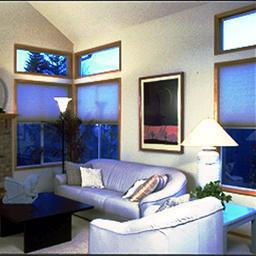Ventana: (214, 63, 255, 193), (13, 76, 72, 160), (74, 81, 121, 158)
